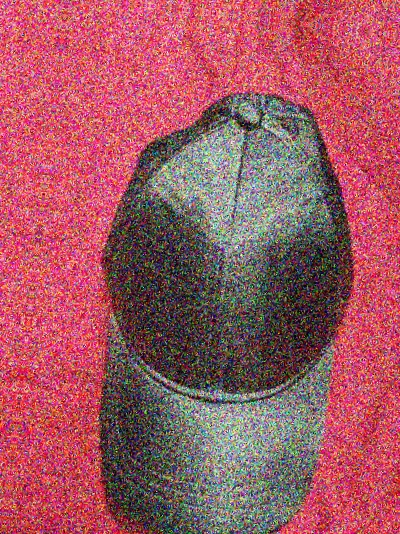Hat: (47, 59, 397, 534), (0, 14, 17, 525)
